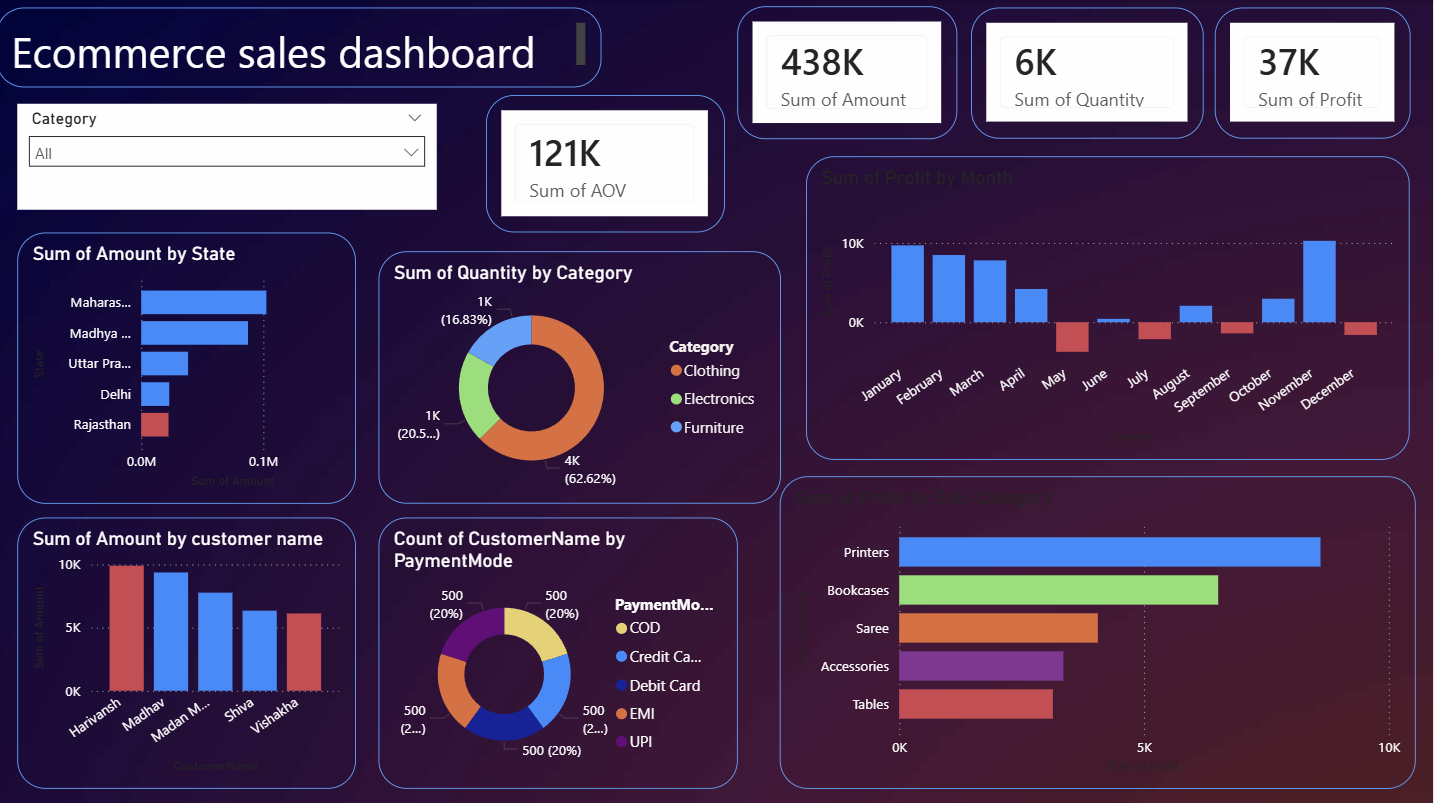

Layout of this report page (visuals, bound fields, positions):
{"tool":"powerbi","page":{"name":"Page 1","canvas":[1280,720],"ordinal":0},"visuals":[{"type":"columnChart","fields":{"Y":["Details_dataset (2).Profit"],"Category":["Orders_dataset.Order Date.Variation.Date Hierarchy.Month"]},"box":[721.8,138.6,537.9,270.3],"z":0},{"type":"barChart","fields":{"Y":["Details_dataset (2).Profit"],"Category":["Details_dataset (2).Sub-Category"]},"box":[698.5,424,566.7,278.6],"z":1000},{"type":"donutChart","fields":{"Category":["Details_dataset (2).Category"],"Y":["Details_dataset (2).Quantity"]},"box":[340.3,223.7,358.1,225],"z":2000},{"type":"donutChart","fields":{"Category":["Details_dataset (2).PaymentMode"],"Y":["Orders_dataset.CustomerName"]},"box":[340.3,461.1,319.7,241.5],"z":3000},{"type":"cardVisual","fields":{"Data":["Details_dataset (2).Amount"]},"box":[660,5.5,196.2,118],"z":4000},{"type":"cardVisual","fields":{"Data":["Details_dataset (2).Profit"]},"box":[1085.4,6.9,174.3,116.6],"z":5000},{"type":"cardVisual","fields":{"Data":["Details_dataset (2).Quantity"]},"box":[868.6,6.9,207.2,116.6],"z":6000},{"type":"cardVisual","fields":{"Data":["Details_dataset (2).avg_order_value"]},"box":[436.4,85.1,212.7,122.1],"z":7000},{"type":"barChart","title":"Sum of Amount by State","fields":{"Y":["Details_dataset (2).Amount"],"Category":["Orders_dataset.State"]},"box":[19.2,207.2,301.9,241.5],"z":8000},{"type":"columnChart","title":"Sum of Amount by customer name","fields":{"Y":["Details_dataset (2).Amount"],"Category":["Orders_dataset.CustomerName"]},"box":[19.2,461.1,301.9,241.5],"z":9000},{"type":"textbox","box":[0,6.9,539.3,71.4],"z":10000},{"type":"slicer","fields":{"Values":["Details_dataset (2).Category"]},"box":[19.2,91.9,373.2,94.7],"z":11000}]}

Visuals, with their boxes in screenshot pixels (x1, y1, x2, y2), scaled from the page's 1280x720 canvas onto the 1434x803 screenshot:
columnChart - Details_dataset (2).Profit x Orders_dataset.Order Date.Variation.Date Hierarchy.Month: [x1=809, y1=155, x2=1411, y2=456]
barChart - Details_dataset (2).Profit x Details_dataset (2).Sub-Category: [x1=783, y1=473, x2=1417, y2=784]
donutChart - Details_dataset (2).Category x Details_dataset (2).Quantity: [x1=381, y1=249, x2=782, y2=500]
donutChart - Details_dataset (2).PaymentMode x Orders_dataset.CustomerName: [x1=381, y1=514, x2=739, y2=784]
cardVisual - Details_dataset (2).Amount: [x1=739, y1=6, x2=959, y2=138]
cardVisual - Details_dataset (2).Profit: [x1=1216, y1=8, x2=1411, y2=138]
cardVisual - Details_dataset (2).Quantity: [x1=973, y1=8, x2=1205, y2=138]
cardVisual - Details_dataset (2).avg_order_value: [x1=489, y1=95, x2=727, y2=231]
"Sum of Amount by State" barChart: [x1=22, y1=231, x2=360, y2=500]
"Sum of Amount by customer name" columnChart: [x1=22, y1=514, x2=360, y2=784]
textbox: [x1=0, y1=8, x2=604, y2=87]
slicer - Details_dataset (2).Category: [x1=22, y1=102, x2=440, y2=208]
